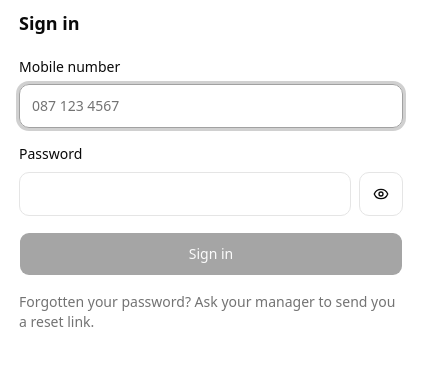
Test: AC12 — a network failure shows its own line and keeps the number › renders the network line, not the credentials line
The image size is (423, 380).
Type "0871234567" into the field labelled "Mobile number" at (211, 106), box left=19, top=84, right=403, bottom=128
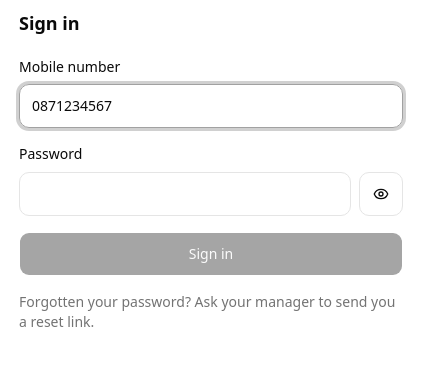
Type "whatever" into the password field labelled "Password" at (185, 194), box left=19, top=172, right=351, bottom=216
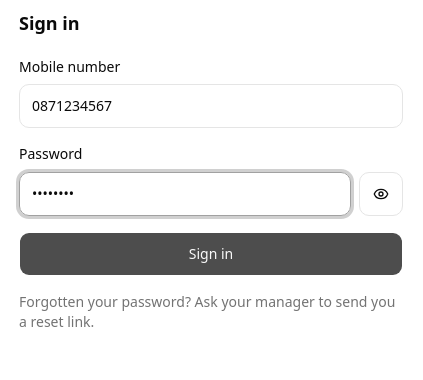
Click the button "Sign in" at (211, 254), box left=19, top=232, right=403, bottom=276
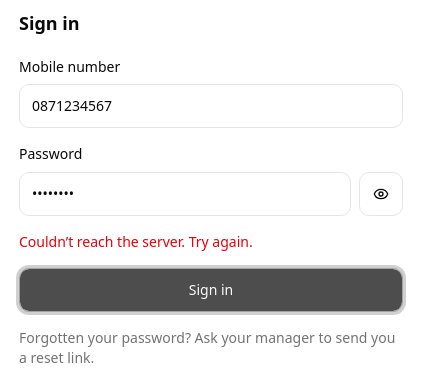
Check: the text "Couldn’t reach the server. Try again." is shown, box left=19, top=232, right=253, bottom=250
